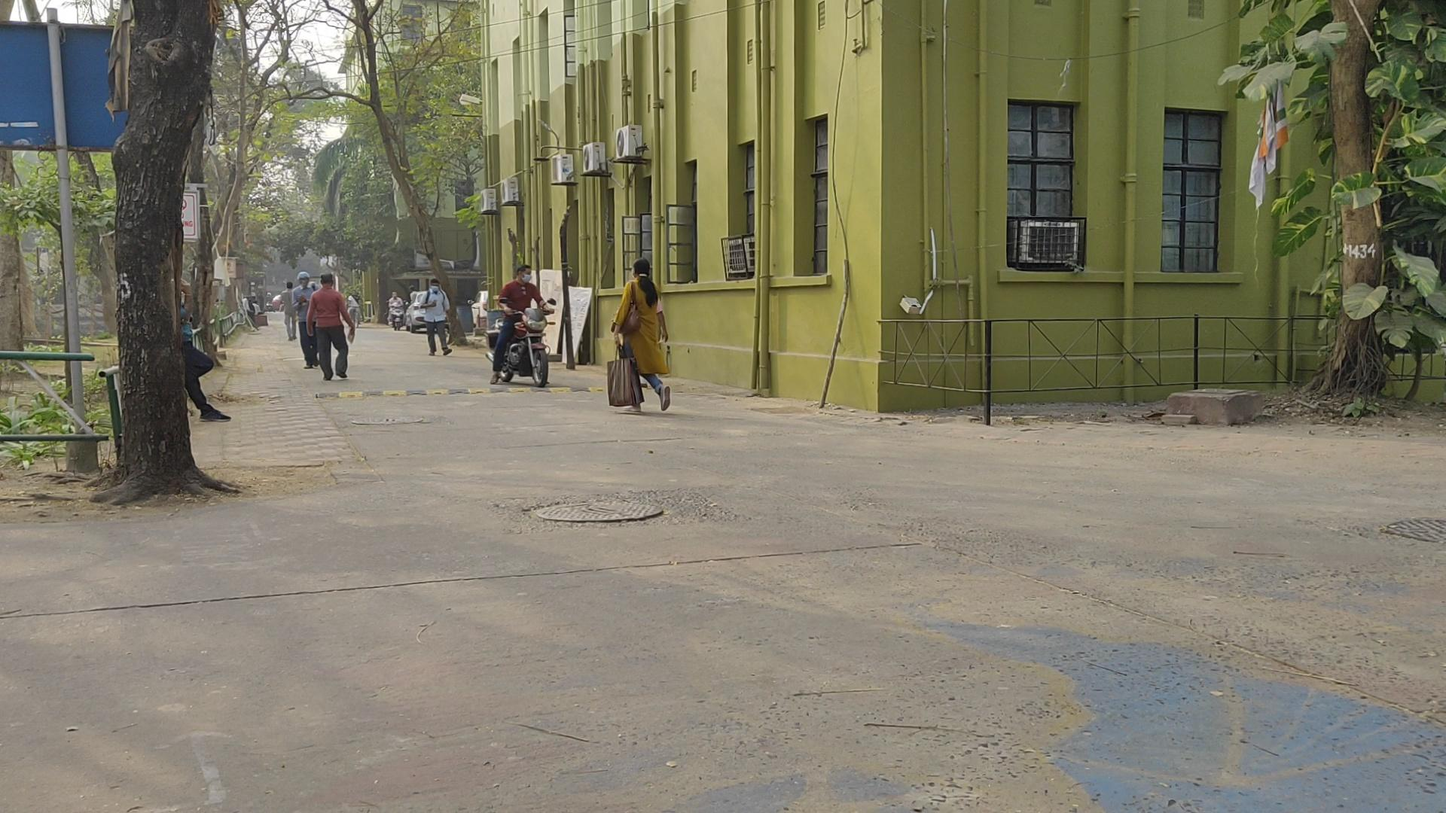bike: (489, 265, 555, 385), (385, 291, 407, 333)
